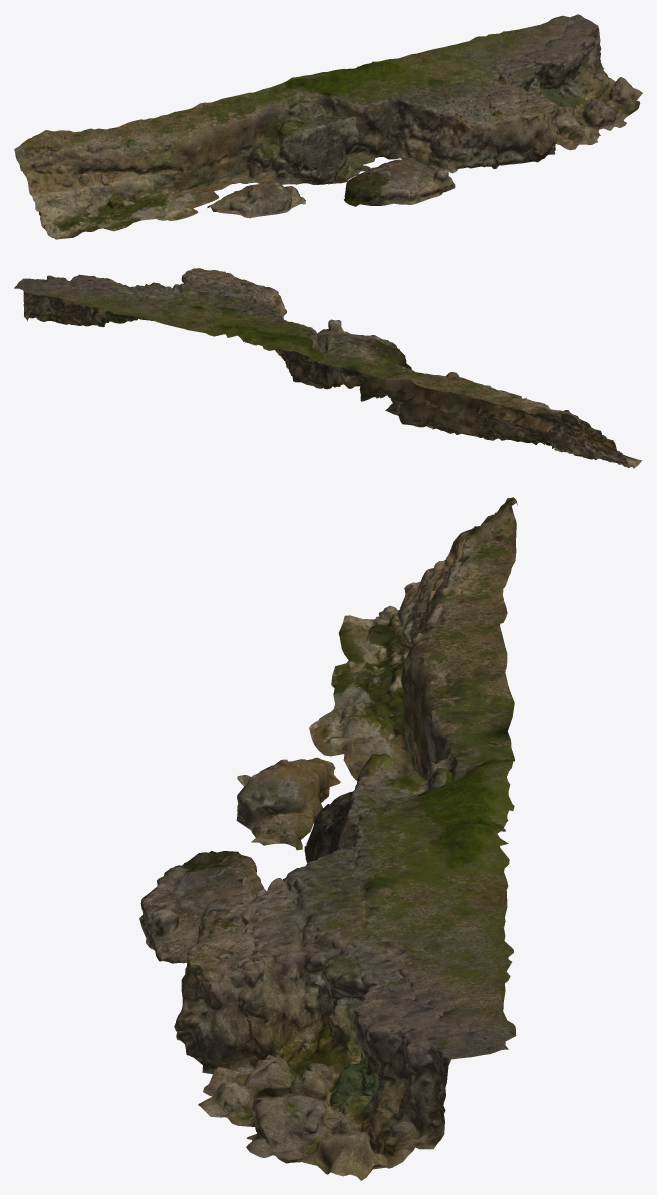
Rendered from coastal_cliff_04.glb.
3 renders of one model, top to bottom at view 1: azimuth 30°, elevation 25°; view 2: azimuth 150°, elevation 25°; view 3: azimuth 270°, elevation 25°, orthographic. The views are drawn at different scales.
Parts seen in each view (by area): view 1: coastal_cliff_04; view 2: coastal_cliff_04; view 3: coastal_cliff_04.
Part boxes in pixels (bbox=[...]): coastal_cliff_04: bbox=[14, 14, 642, 239]; coastal_cliff_04: bbox=[14, 268, 642, 468]; coastal_cliff_04: bbox=[139, 497, 517, 1180].
Size of the model in its own units: 86.77 by 11 by 24.23.
1 material, 1 textured.
